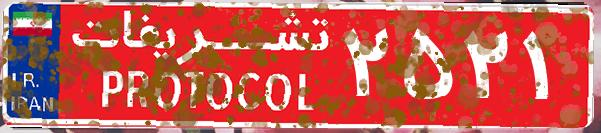1: (520, 20, 580, 115)
2: (340, 20, 400, 115), (460, 20, 520, 115)
5: (400, 20, 460, 115)
تشریفات: (60, 8, 340, 125)
